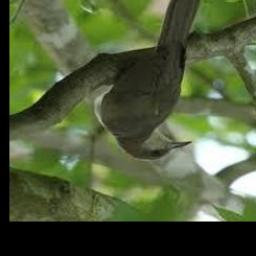Cuckoo: (94, 0, 204, 161)
